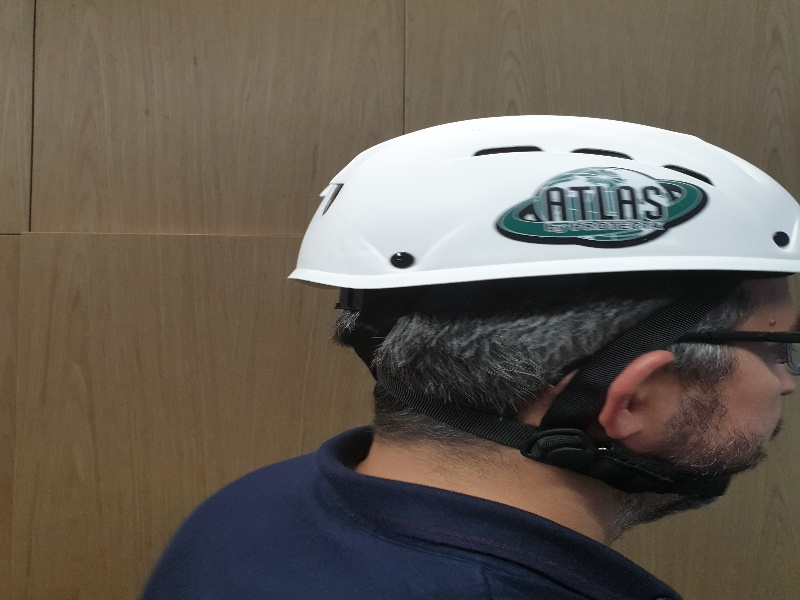Baret: (289, 113, 800, 287)
